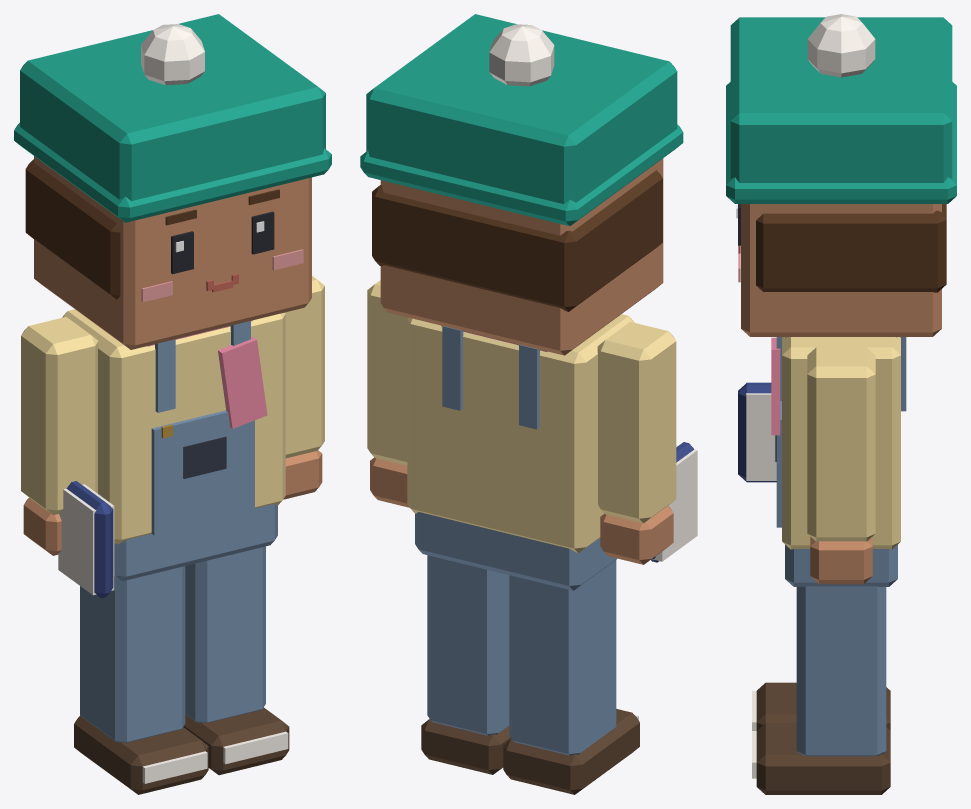
The model's file is CatCafe_NPC_Customer_F.glb.
3 views of the same model, side by side, from view 1: azimuth 30°, elevation 25°; view 2: azimuth 150°, elevation 25°; view 3: azimuth 270°, elevation 25° (orthographic). The views are drawn at different scales.
Parts seen in each view (by area): view 1: CatCafe_NPC_Customer_F; view 2: CatCafe_NPC_Customer_F; view 3: CatCafe_NPC_Customer_F.
Part boxes in pixels (<box>): CatCafe_NPC_Customer_F: <box>14,14,331,794</box>; CatCafe_NPC_Customer_F: <box>360,14,697,794</box>; CatCafe_NPC_Customer_F: <box>726,14,956,794</box>.
Bounding box in the file's own units: 2.22 × 5.5 × 1.55.
Materials: 1 (1 with a texture image).
